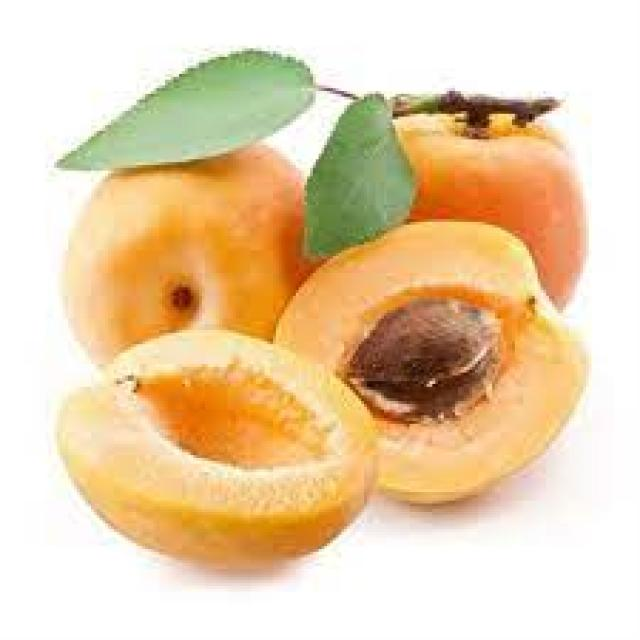Cekirdek: (344, 299, 495, 421)
Kayisi: (57, 330, 373, 552)
Yaprak: (63, 48, 313, 168)
